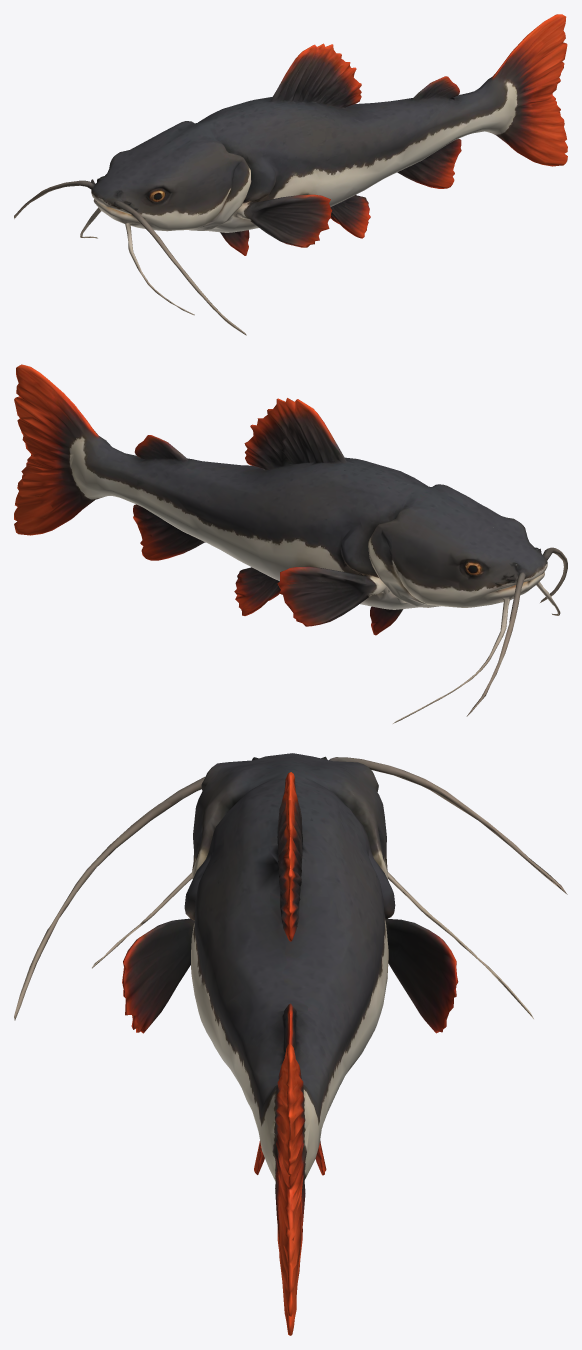
Rendered from fish-krasnohvost.glb.
The picture shows the model from 3 angles, top to bottom: view 1: azimuth 30°, elevation 25°; view 2: azimuth 150°, elevation 25°; view 3: azimuth 270°, elevation 25°; orthographic projection. The views are drawn at different scales.
Parts seen in each view (by area): view 1: tripo_node_b6034c28-cdb9-47ed-85e5-268589855f00; view 2: tripo_node_b6034c28-cdb9-47ed-85e5-268589855f00; view 3: tripo_node_b6034c28-cdb9-47ed-85e5-268589855f00.
Part boxes in pixels (x1,y1,x2,y2): tripo_node_b6034c28-cdb9-47ed-85e5-268589855f00: (14,14,567,335); tripo_node_b6034c28-cdb9-47ed-85e5-268589855f00: (14,364,567,723); tripo_node_b6034c28-cdb9-47ed-85e5-268589855f00: (14,753,567,1335).
Size of the model in its own units: 1 by 0.4026 by 0.531.
1 material, 1 textured.
